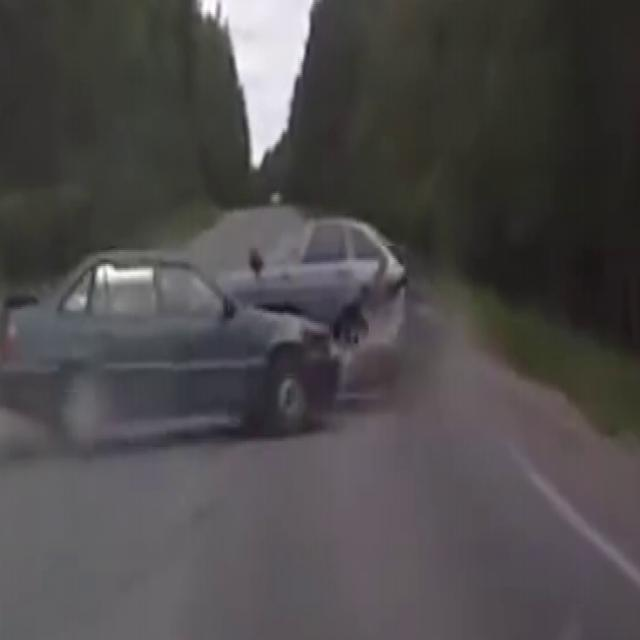accident: (53, 202, 440, 452)
